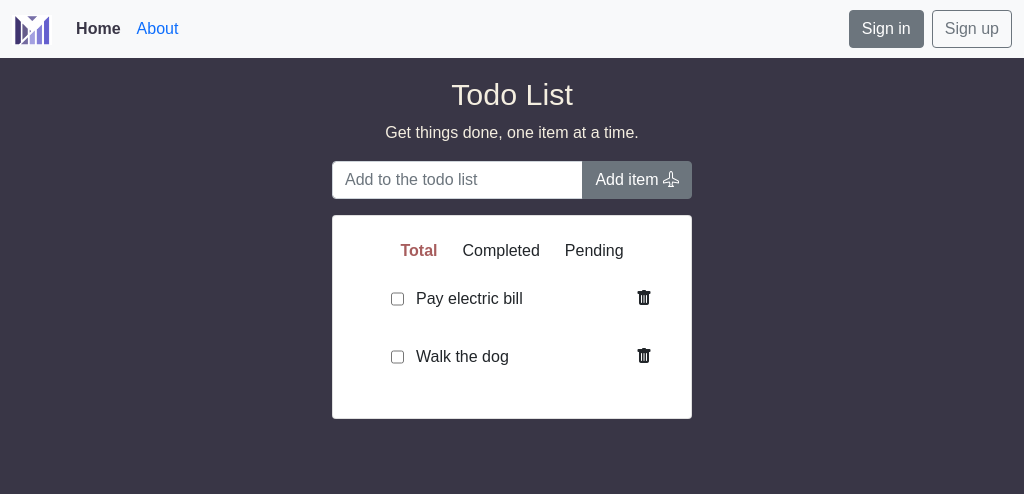
Test: todoList spec › can add new todo items
Type "Feed the cat" into the field with class "to-do-text" at (458, 180), box x1=332 y1=161 x2=583 y2=199
Then press Enter
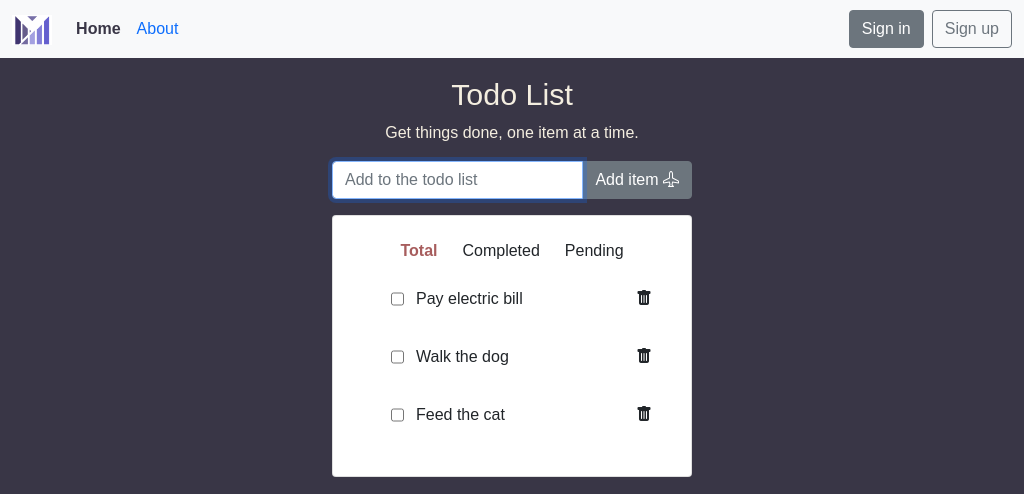
Expected: the element showing "Total Completed Pending" is shown, x1=332 y1=214 x2=692 y2=476
Result: the 4th field holds "Feed the cat" at x1=404 y1=396 x2=623 y2=434
